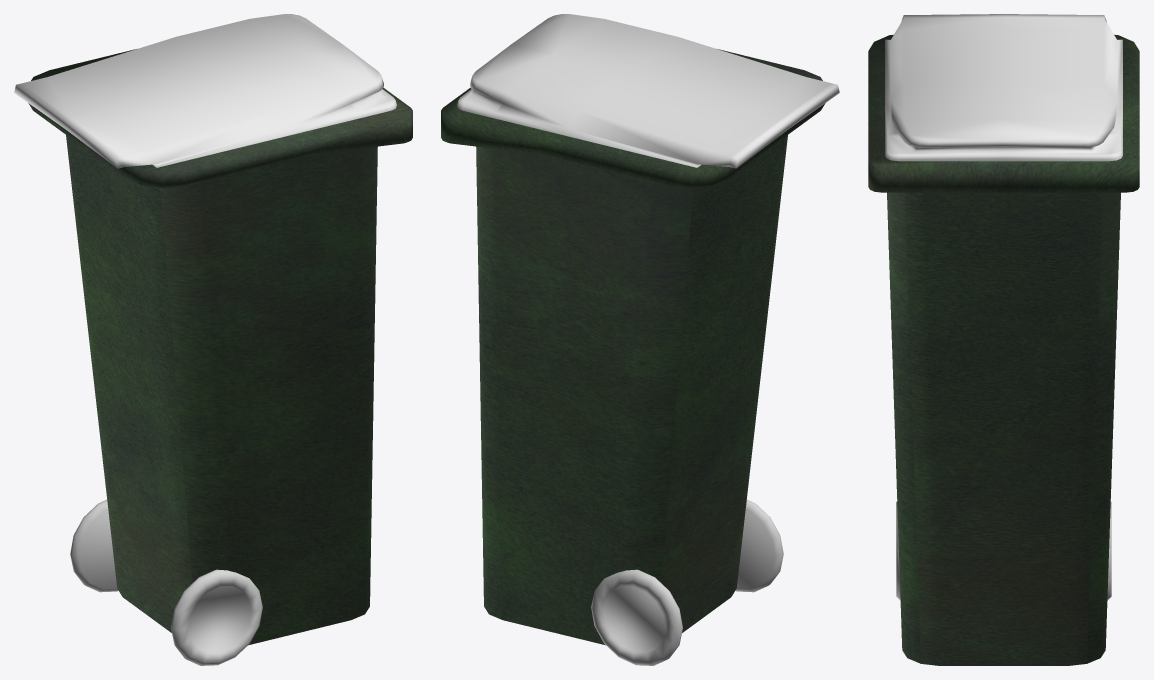
The model's file is Trash Can.fbx.
3 views of the same model, side by side, from view 1: azimuth 30°, elevation 25°; view 2: azimuth 150°, elevation 25°; view 3: azimuth 270°, elevation 25° (orthographic).
Visible parts, largest first — view 1: Cube, Cube.001, Cylinder; view 2: Cube, Cube.001, Cylinder; view 3: Cube, Cube.001, Cylinder.
Boxes of the visible parts, x1,y1,x2,y2 form: Cube: (28, 49, 412, 645); Cube.001: (14, 14, 396, 168); Cylinder: (70, 499, 262, 665); Cube: (441, 49, 825, 645); Cube.001: (457, 14, 839, 168); Cylinder: (591, 499, 783, 665); Cube: (868, 34, 1139, 665); Cube.001: (885, 14, 1122, 161); Cylinder: (896, 501, 1111, 600).
Bounding box in the file's own units: 250 × 455 × 206.
